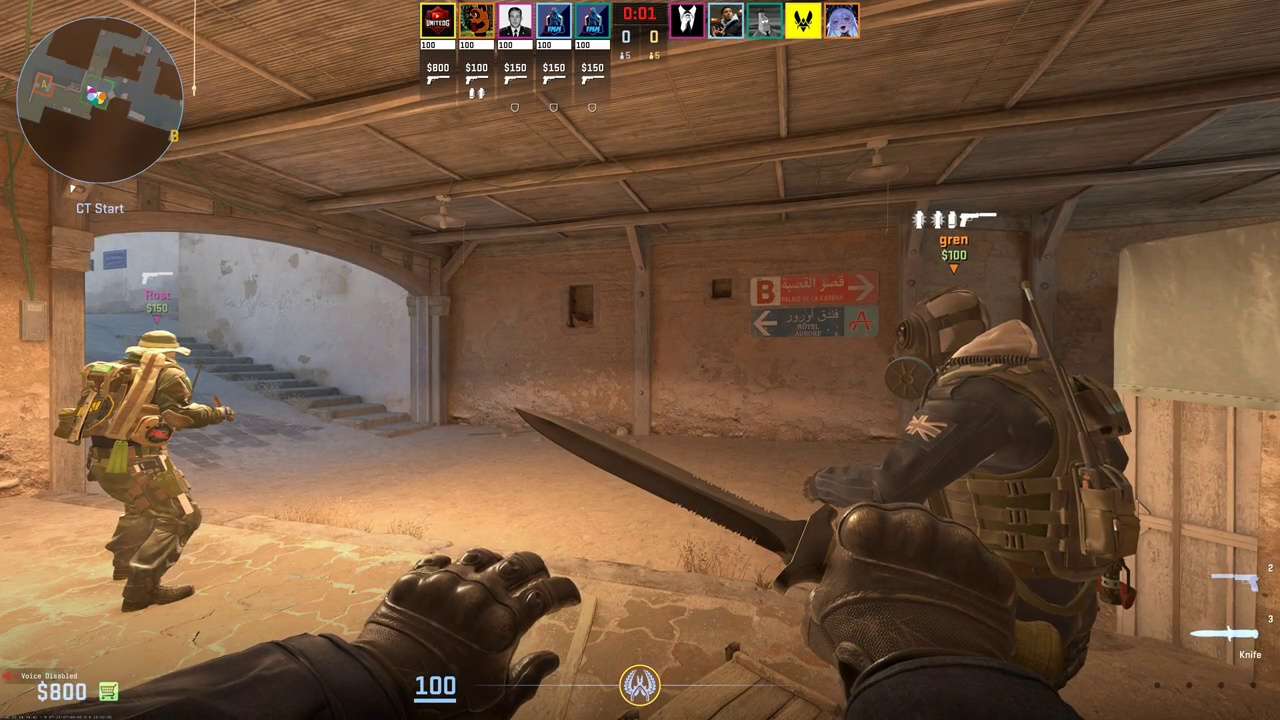CT: (881, 287, 1115, 663), (86, 330, 208, 611)
